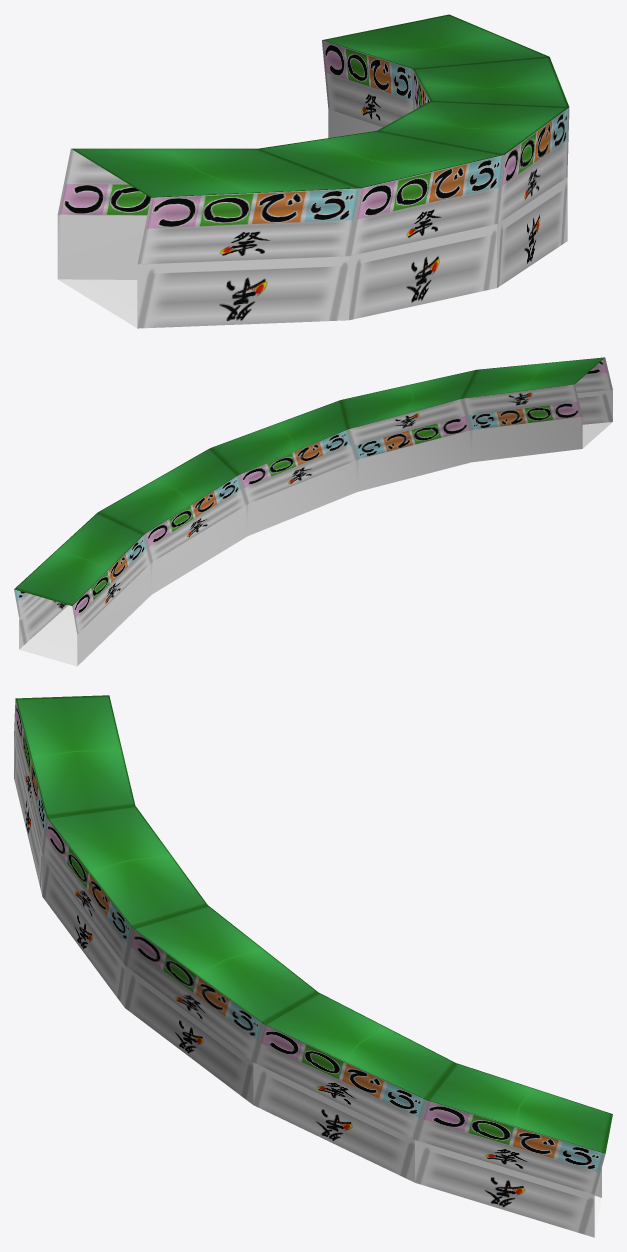
The model's file is CourseAki_Wall_L_9.fbx.
3 views of the same model, one above another, from view 1: azimuth 30°, elevation 25°; view 2: azimuth 150°, elevation 25°; view 3: azimuth 270°, elevation 25° (orthographic). The views are drawn at different scales.
Parts seen in each view (by area): view 1: polySurface288; view 2: polySurface288; view 3: polySurface288.
Boxes of the visible parts, x1,y1,x2,y2 form: polySurface288: [57, 14, 569, 328]; polySurface288: [14, 357, 612, 666]; polySurface288: [14, 695, 612, 1237].
Size of the model in its own units: 12.47 by 6.97 by 12.67.
1 material, 1 textured.
